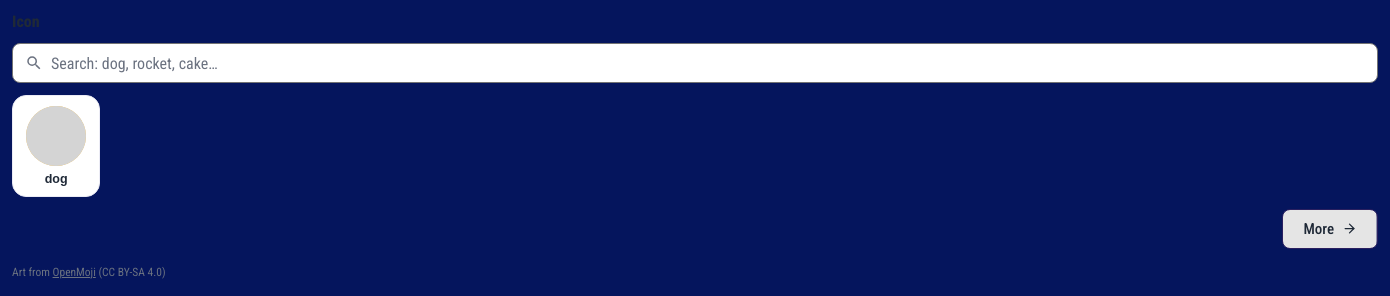
Test: Pager › PastTheFirstPage_OffersBackToTheStart
What coordinates should you click on to do the following:
click the button "More"
I would click on:
 (1330, 229)
Its box is [1282,209,1378,249].
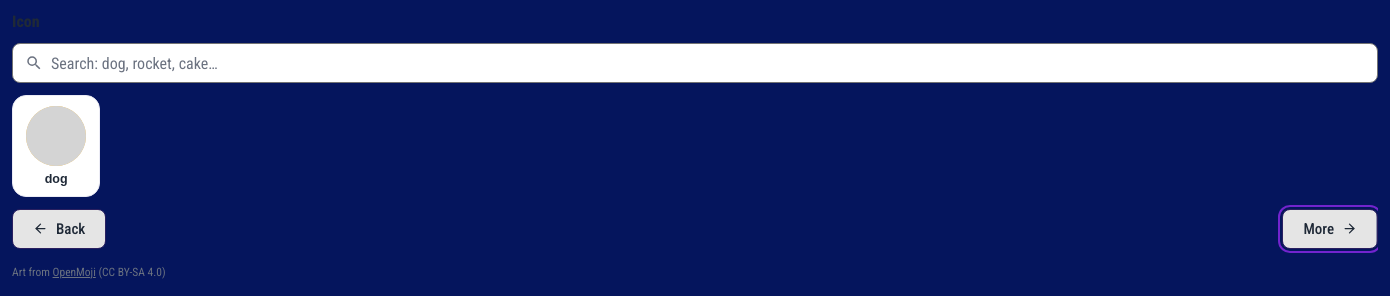
What coordinates should you click on to do the following:
click the button "Back"
I would click on:
 (59, 229)
Its box is [12,209,106,249].
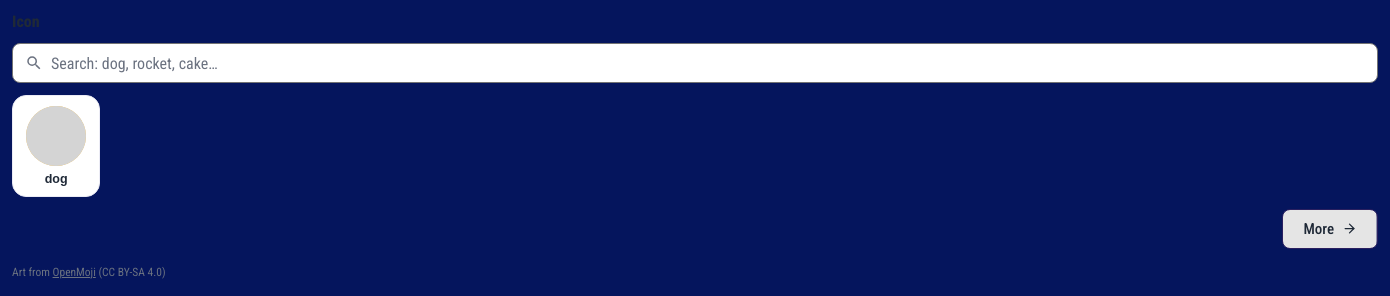
Expected: the button "Back" is gone
